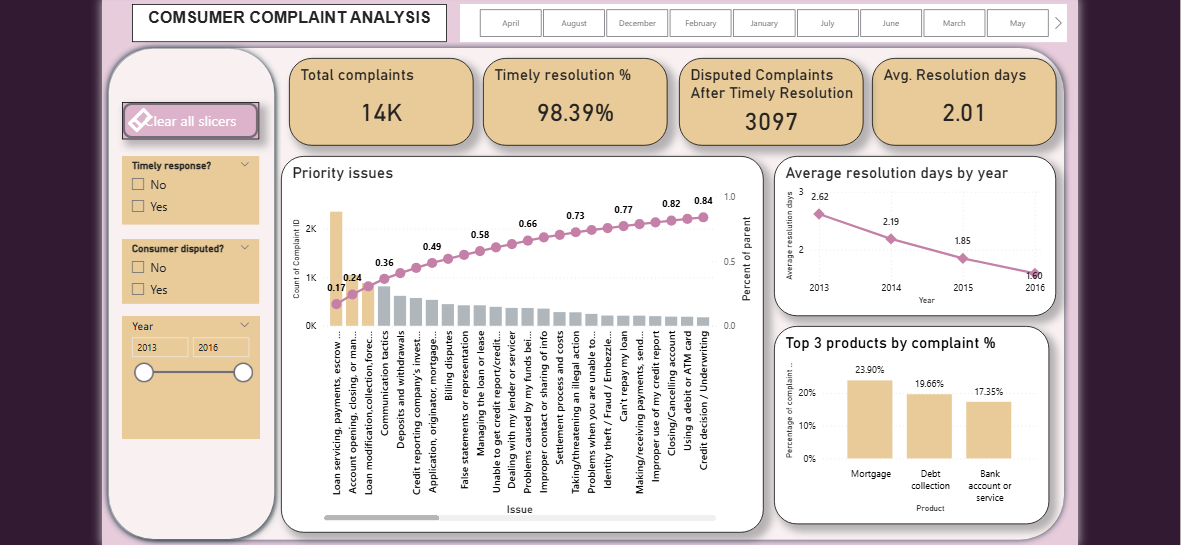

Layout of this report page (visuals, bound fields, positions):
{"tool":"powerbi","page":{"name":"Consumer complaints Analysis 1","canvas":[1280,720],"ordinal":0},"visuals":[{"type":"shape","box":[0,59.1,1269.7,660.7],"z":0},{"type":"shape","box":[0,59.1,235,660.7],"z":1000},{"type":"textbox","box":[39.3,9.2,413.1,49.8],"z":2000},{"type":"slicer","fields":{"Values":["Consumer_Complaints.Complaint Month"]},"box":[469.5,9.2,796.1,49.8],"z":3000},{"type":"slicer","fields":{"Values":["Consumer_Complaints.Timely response?"]},"box":[26.2,208.5,179.7,90.5],"z":4000},{"type":"slicer","fields":{"Values":["Consumer_Complaints.Consumer disputed?"]},"box":[26.2,317.4,179.7,85.2],"z":5000},{"type":"slicer","fields":{"Values":["Consumer_Complaints.Year"]},"box":[26.2,418.4,179.7,161.3],"z":6000},{"type":"card","title":"Total complaints","fields":{"Values":["Consumer_Complaints.Total complaints"]},"box":[245.4,79.8,242,115.3],"z":7000},{"type":"card","title":"Timely resolution %","fields":{"Values":["Consumer_Complaints.Timely resolved complaints"]},"box":[499.6,79.8,242.4,115.3],"z":8000},{"type":"card","title":"Avg. Resolution days","fields":{"Values":["Consumer_Complaints.Average resolution days"]},"box":[1009.5,79.8,242.4,115.3],"z":9000},{"type":"card","title":"Disputed Complaints After Timely Resolution","fields":{"Values":["Consumer_Complaints.Total disputed Complaints after Timely resolution"]},"box":[756.8,79.8,242.4,115.3],"z":10000},{"type":"lineStackedColumnComboChart","title":"Priority issues","fields":{"Y":["CountNonNull(Consumer_Complaints.Complaint ID)","select"],"Category":["Consumer_Complaints.Issue"],"Y2":["select1"]},"box":[235,208.4,632.6,493.7],"z":11000},{"type":"lineChart","title":"Average resolution days by year","fields":{"Y":["Avg(Consumer_Complaints.Resolution days)"],"Category":["Consumer_Complaints.Year"]},"box":[881.4,208,370.1,210.4],"z":12000},{"type":"clusteredColumnChart","title":"Top 3 products by complaint %","fields":{"Category":["Consumer_Complaints.Product"],"Y":["Consumer_Complaints.Percentage of complaint by Product"]},"box":[881.3,431.5,360.7,259.7],"z":13000},{"type":"actionButton","box":[26.2,137.7,179.7,48.5],"z":14000}]}

Visuals, with their boxes in screenshot pixels (x1, y1, x2, y2):
shape: 96,40,1079,544
shape: 96,40,277,544
textbox: 126,1,446,40
slicer - Consumer_Complaints.Complaint Month: 459,1,1075,40
slicer - Consumer_Complaints.Timely response?: 116,155,255,225
slicer - Consumer_Complaints.Consumer disputed?: 116,240,255,306
slicer - Consumer_Complaints.Year: 116,318,255,443
"Total complaints" card: 286,56,473,145
"Timely resolution %" card: 482,56,670,145
"Avg. Resolution days" card: 877,56,1065,145
"Disputed Complaints After Timely Resolution" card: 682,56,869,145
"Priority issues" lineStackedColumnComboChart: 277,155,767,537
"Average resolution days by year" lineChart: 778,155,1065,318
"Top 3 products by complaint %" clusteredColumnChart: 778,328,1057,529
actionButton: 116,100,255,138
